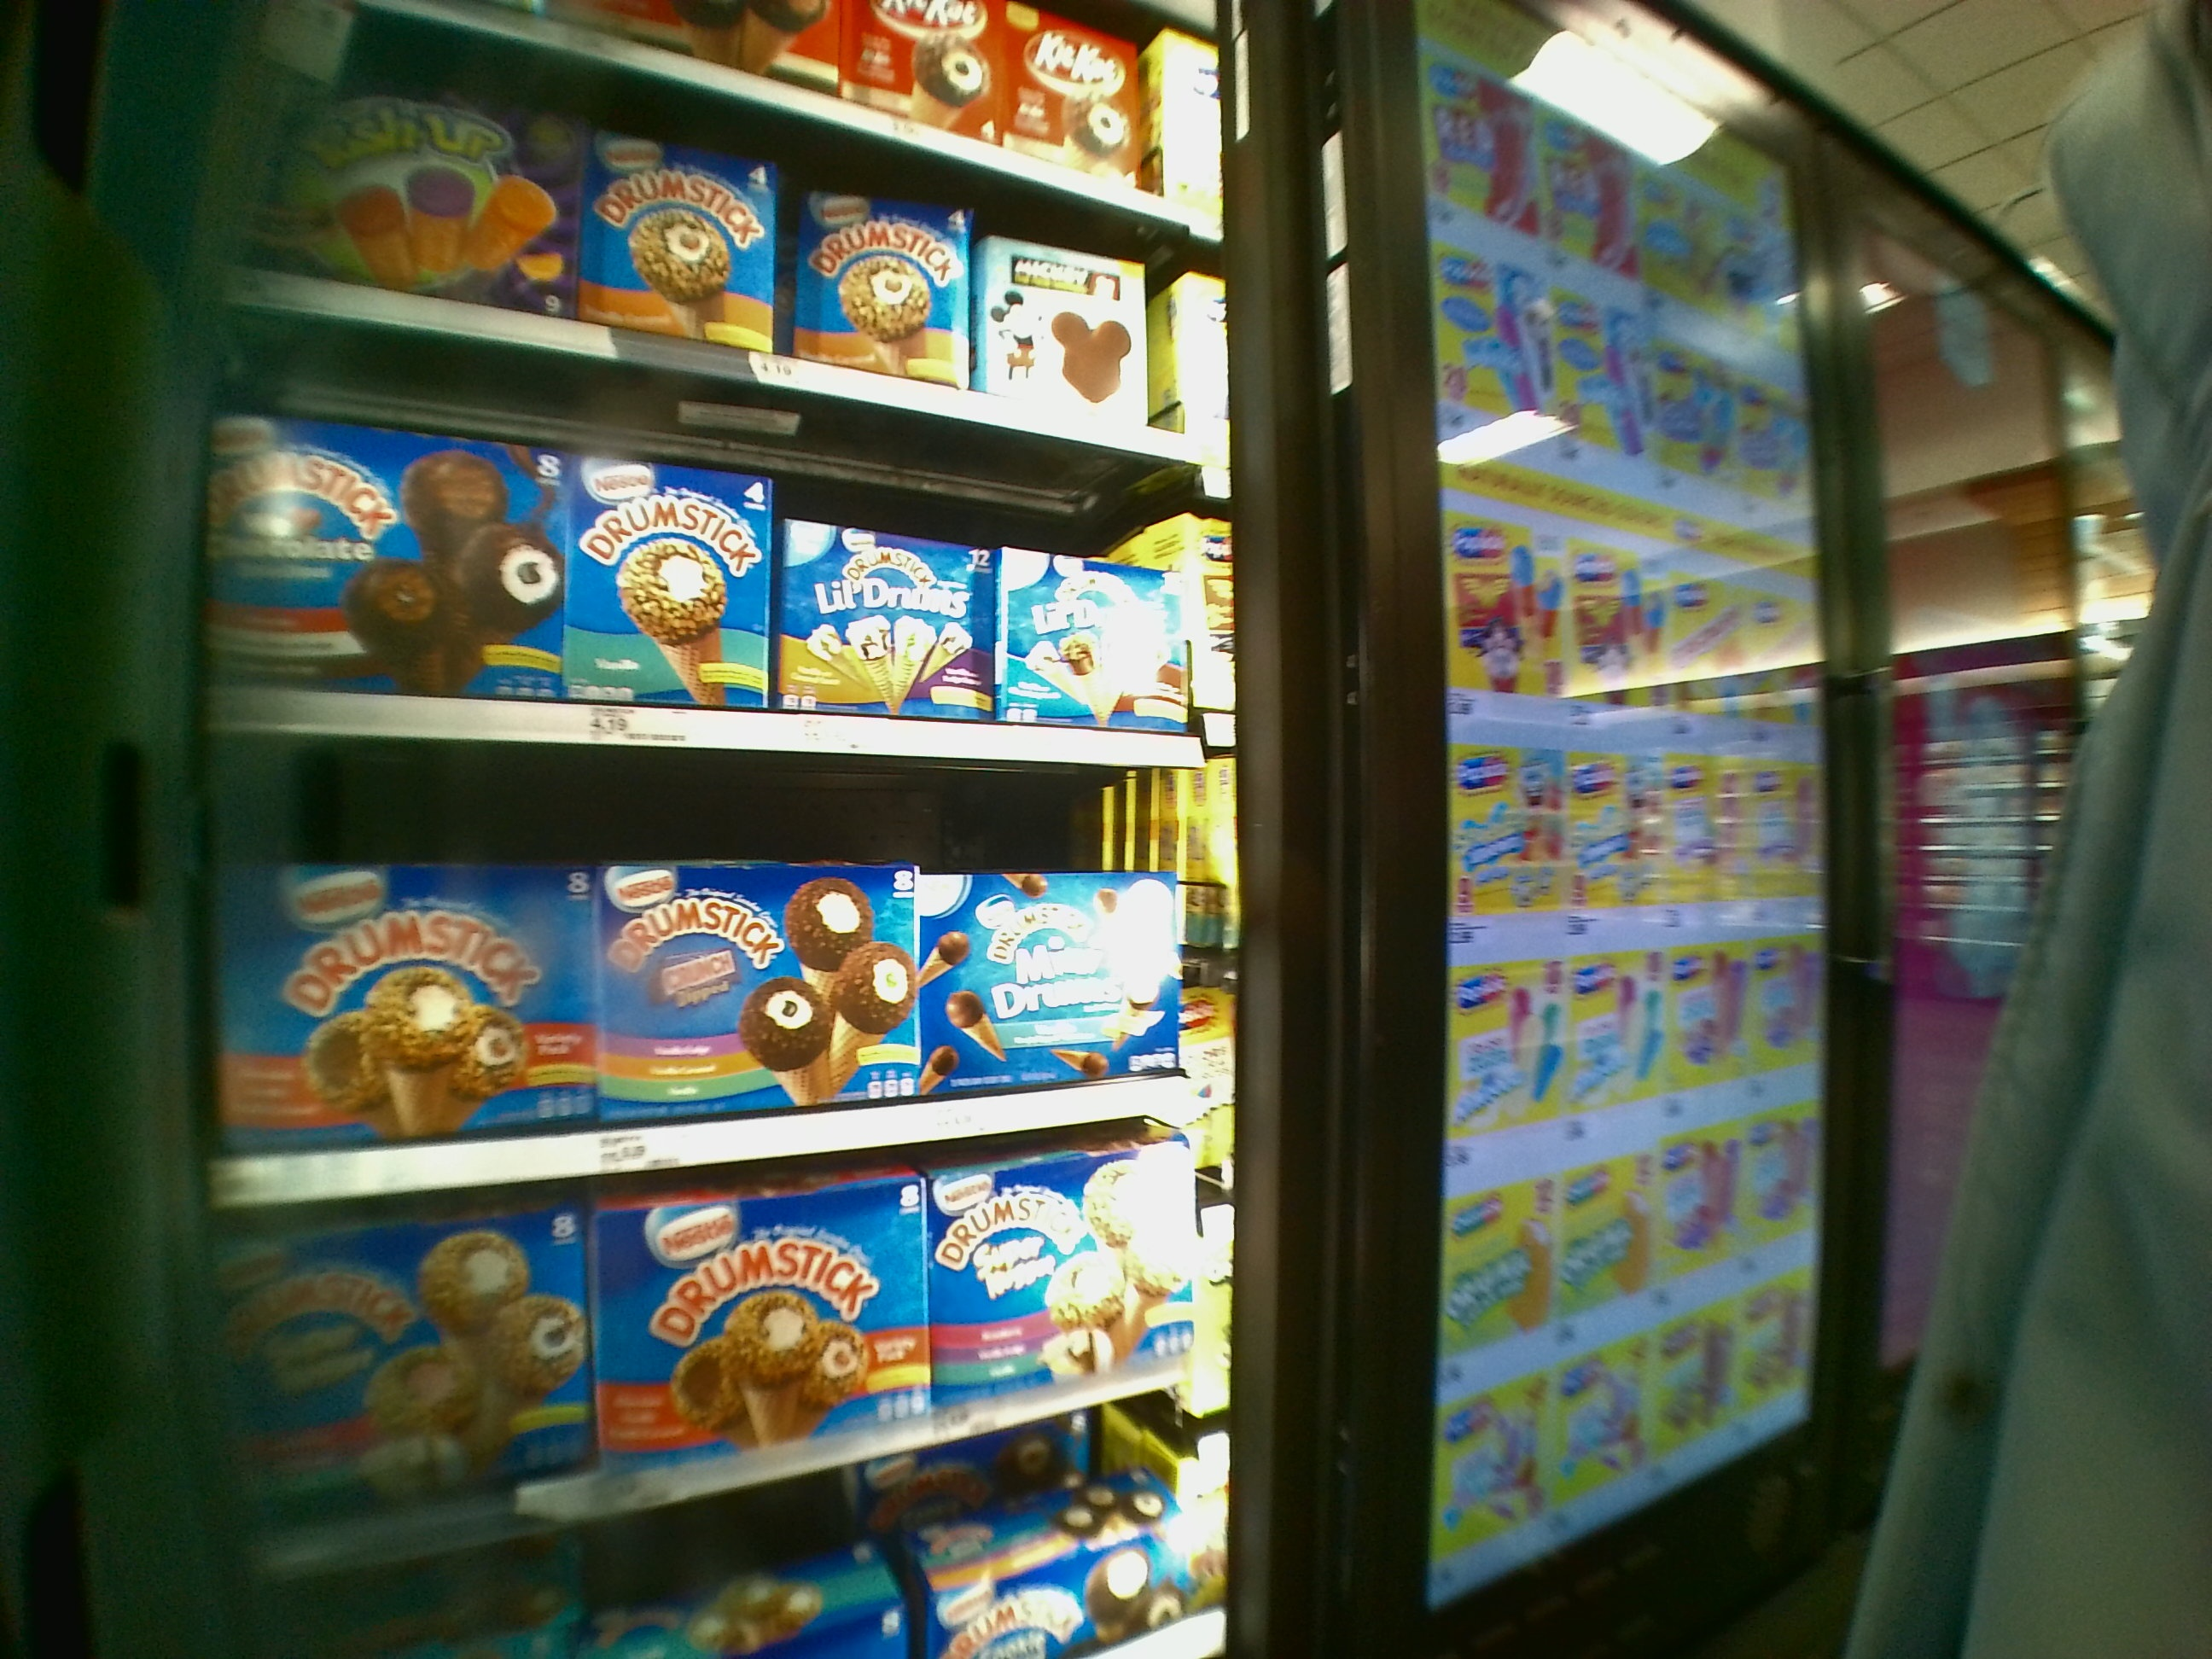shelf: (200, 777, 1224, 1176), (195, 401, 1214, 753), (225, 1141, 1217, 1480)
